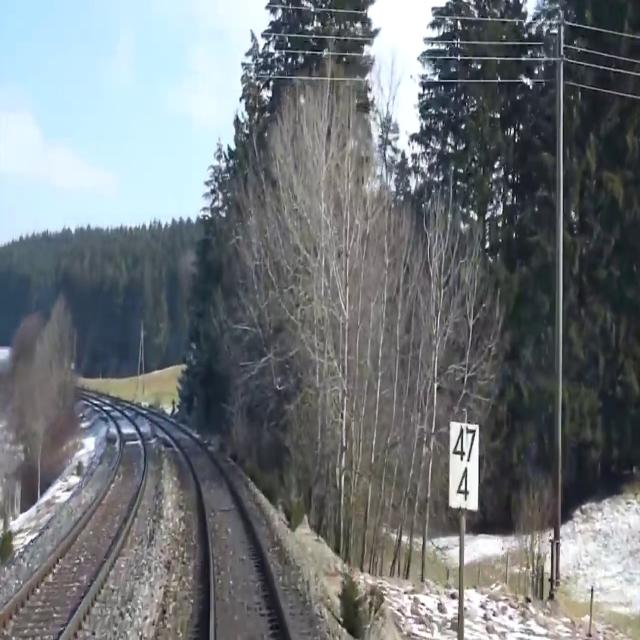rail-track: (0, 408, 144, 639), (165, 423, 291, 639)
